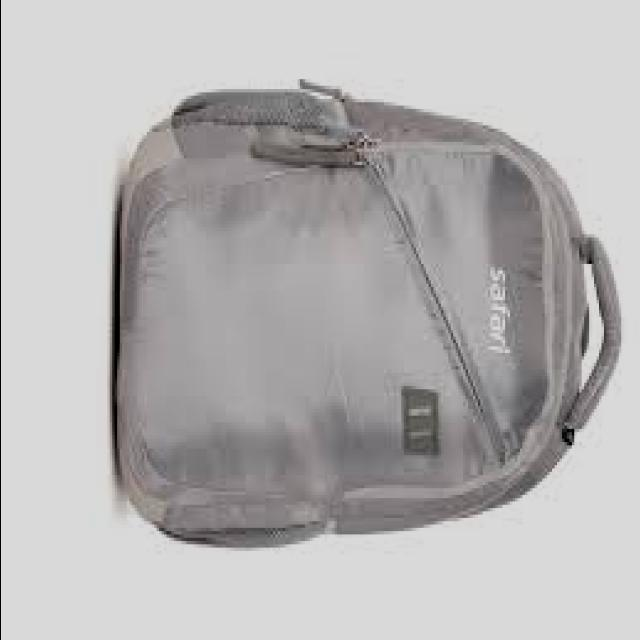backpack: (115, 77, 624, 549)
